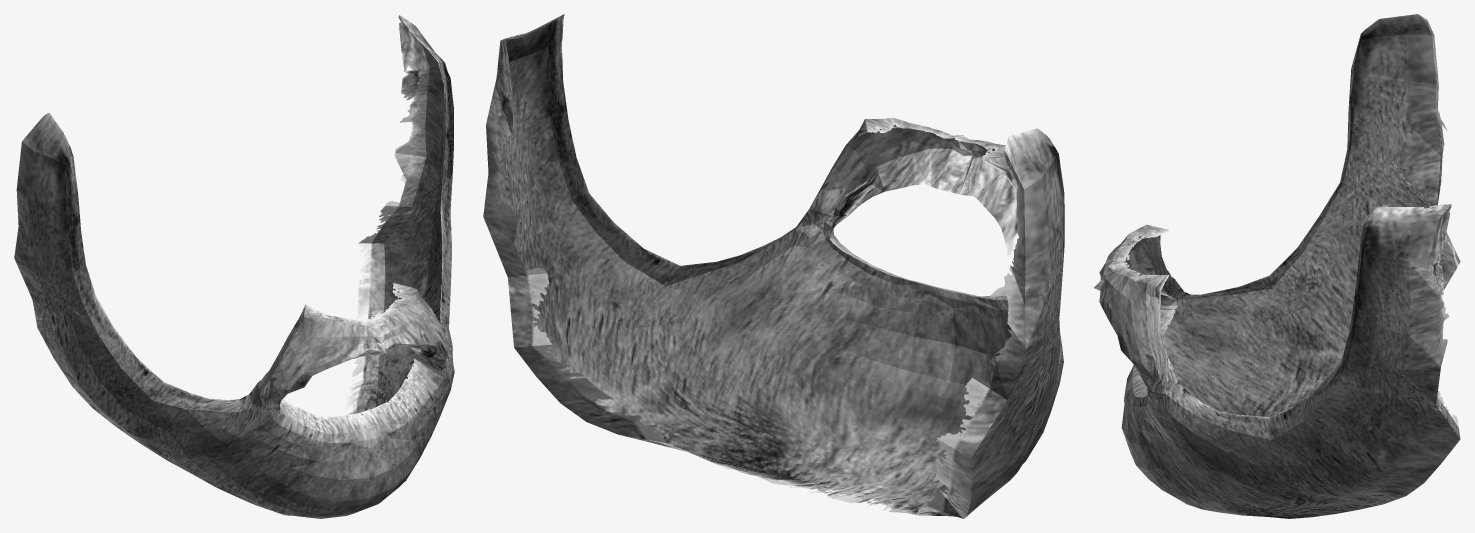
Rendered from mhw_grinsegold_beard_sigmund_wip.glb.
3 views of the same model, side by side, from view 1: azimuth 30°, elevation 25°; view 2: azimuth 150°, elevation 25°; view 3: azimuth 270°, elevation 25° (orthographic). The views are drawn at different scales.
Visible parts, largest first — view 1: mhw_grinsegold_beard_sigmund_wip; view 2: mhw_grinsegold_beard_sigmund_wip; view 3: mhw_grinsegold_beard_sigmund_wip.
Part boxes in pixels (x1,y1,x2,y2): mhw_grinsegold_beard_sigmund_wip: [14, 15, 454, 518]; mhw_grinsegold_beard_sigmund_wip: [483, 14, 1064, 518]; mhw_grinsegold_beard_sigmund_wip: [1094, 14, 1460, 518].
Size of the model in its own units: 0.1538 by 0.1314 by 0.1118.
Materials: 1 (1 with a texture image).
